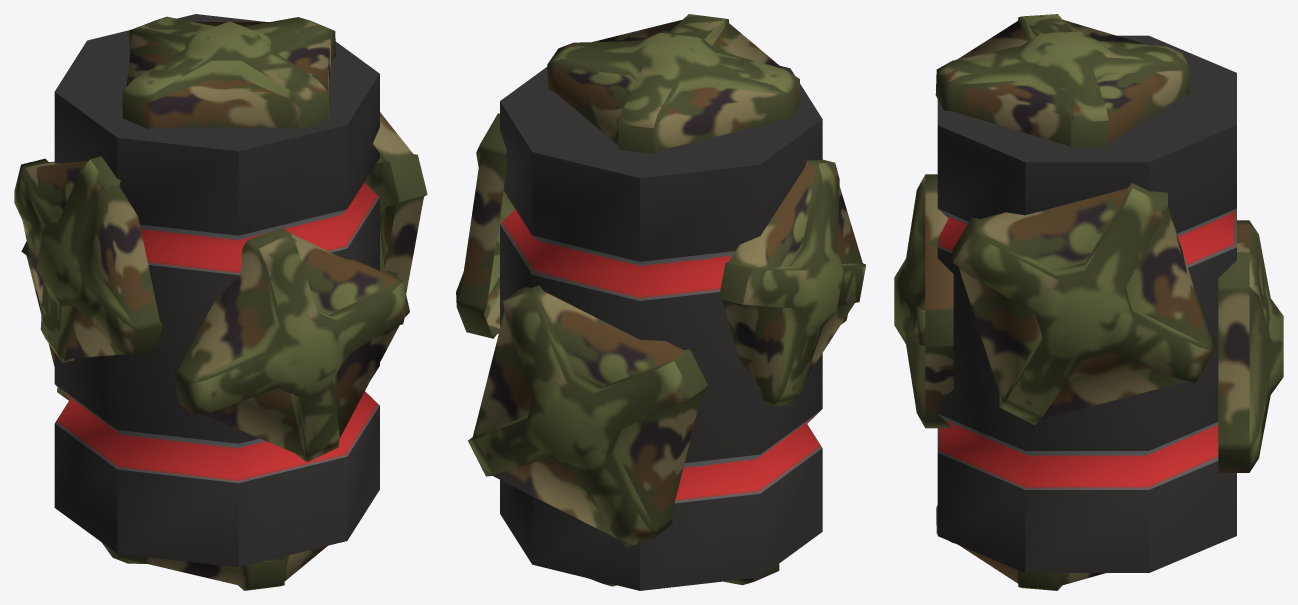
The model's file is bomb_mesh.fbx.
The picture shows the model from 3 angles, left to right: view 1: azimuth 30°, elevation 25°; view 2: azimuth 150°, elevation 25°; view 3: azimuth 270°, elevation 25°; orthographic projection.
Parts seen in each view (by area): view 1: polySurface3; view 2: polySurface3; view 3: polySurface3.
Part boxes in pixels (<box>): polySurface3: <box>14,14,427,590</box>; polySurface3: <box>456,14,865,590</box>; polySurface3: <box>894,14,1283,590</box>.
Bounding box in the file's own units: 2.4 × 3.57 × 2.41.
